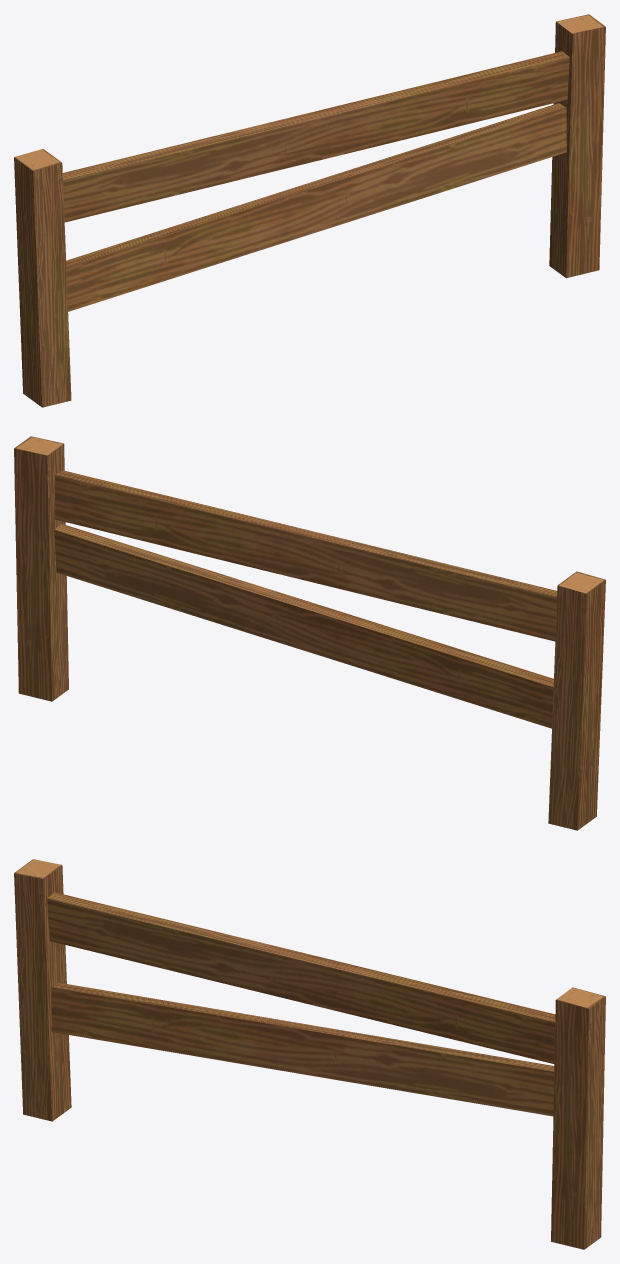
File: fence.glb
3 renders of one model, top to bottom at view 1: azimuth 30°, elevation 25°; view 2: azimuth 150°, elevation 25°; view 3: azimuth 330°, elevation 25°, orthographic.
Parts seen in each view (by area): view 1: Prop_WoodenFence_Single; view 2: Prop_WoodenFence_Single; view 3: Prop_WoodenFence_Single.
Part boxes in pixels (<box>): Prop_WoodenFence_Single: <box>14,14,605,407</box>; Prop_WoodenFence_Single: <box>14,436,605,830</box>; Prop_WoodenFence_Single: <box>14,859,605,1249</box>.
Bounding box in the file's own units: 2.46 × 1 × 0.143.
Materials: 1 (1 with a texture image).
